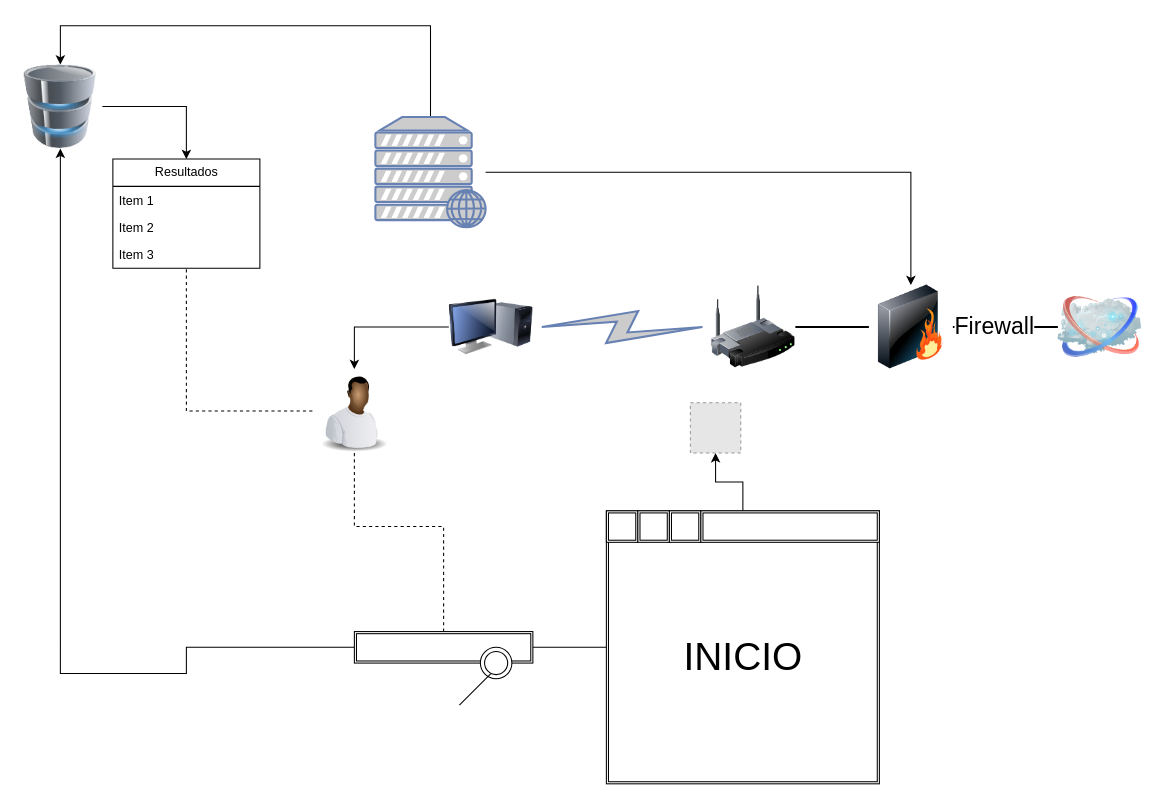
The diagram is 1159 pixels wide and 802 high, and some of its shapes have lost their labels. Grey dashed boxes stand in for pictures. Here are the shapes that lost their labels. From the top down, the centre of each, then its label:
At (x=490, y=327): "PC".
At (x=1099, y=327): "Internet".
